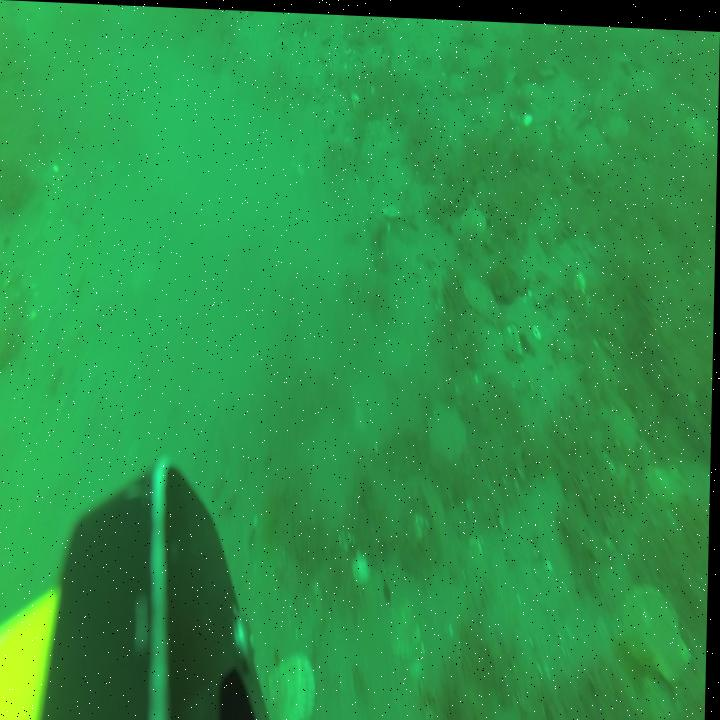scallop: (620, 573, 698, 680), (265, 650, 321, 720), (389, 596, 433, 681), (428, 393, 472, 465), (644, 450, 690, 505), (462, 269, 504, 316), (462, 198, 489, 236)
